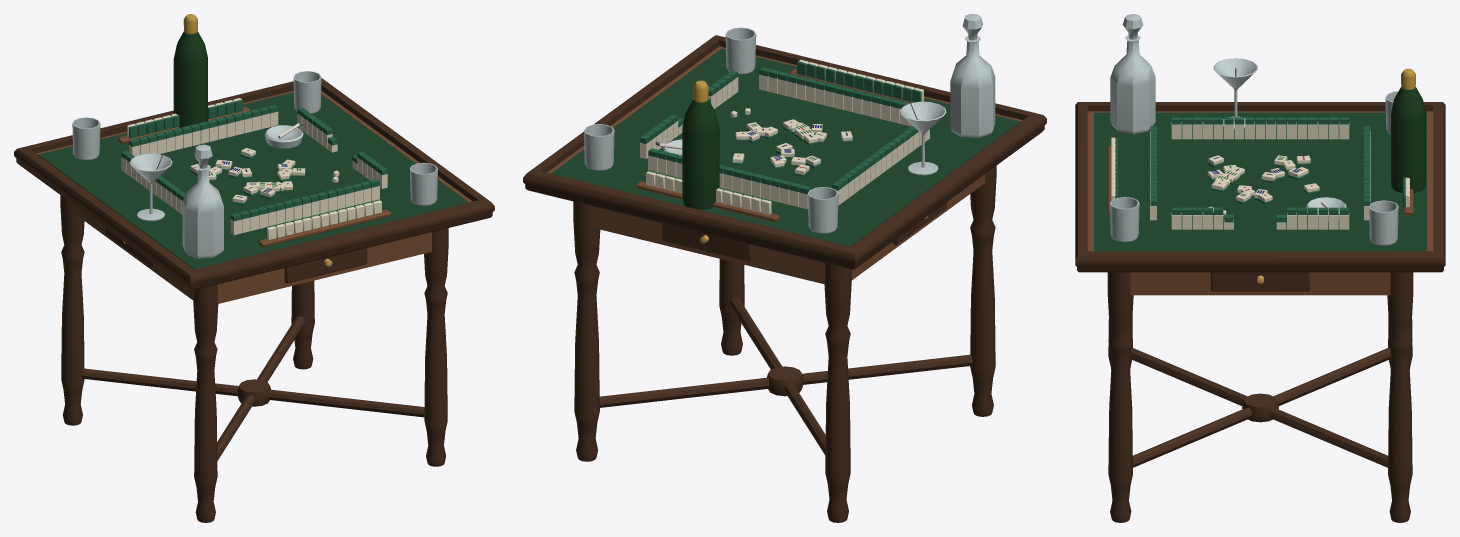
Rendered from mahjong_table.glb.
3 views of the same model, side by side, from view 1: azimuth 30°, elevation 25°; view 2: azimuth 150°, elevation 25°; view 3: azimuth 270°, elevation 25° (orthographic). The views are drawn at different scales.
Visible parts, largest first — view 1: walnut_d, felt, tile, glass, walnut, tile_b, bottle; view 2: walnut_d, felt, tile, glass, tile_b, walnut, bottle; view 3: walnut_d, felt, glass, tile, walnut, tile_b, bottle.
Part boxes in pixels (x1,y1,x2,y2): walnut_d: (14, 78, 494, 522); felt: (38, 92, 468, 269); tile: (121, 98, 387, 239); glass: (72, 71, 437, 258); walnut: (36, 90, 472, 303); tile_b: (121, 99, 387, 238); bottle: (173, 31, 207, 127); walnut_d: (523, 35, 1046, 522); felt: (551, 48, 1020, 246); tile: (640, 59, 929, 214); glass: (584, 14, 995, 233); tile_b: (640, 61, 921, 212); walnut: (547, 46, 1022, 284); bottle: (682, 99, 719, 209); walnut_d: (1075, 68, 1445, 522); felt: (1094, 112, 1426, 251); glass: (1110, 14, 1398, 245); tile: (1111, 122, 1409, 229); walnut: (1087, 111, 1433, 295); tile_b: (1115, 117, 1405, 222); bottle: (1391, 87, 1425, 192).
Size of the model in its own units: 0.9 by 1.06 by 0.9.
